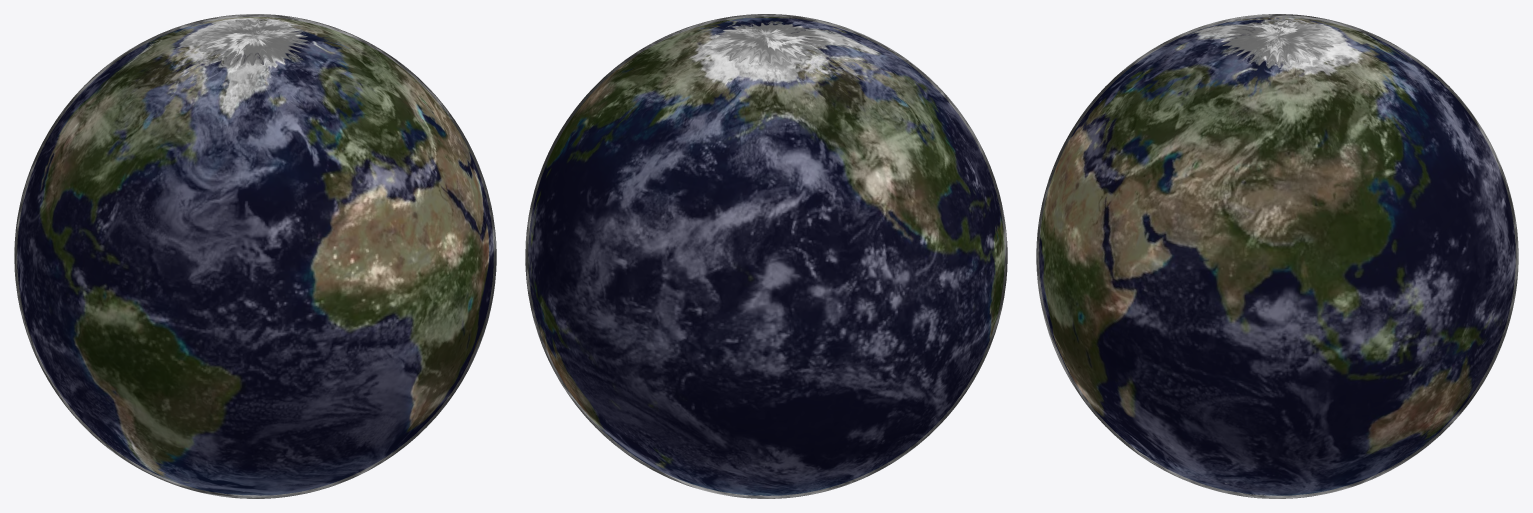
3 renders of one model, left to right at view 1: azimuth 30°, elevation 25°; view 2: azimuth 150°, elevation 25°; view 3: azimuth 270°, elevation 25°, orthographic.
Parts seen in each view (by area): view 1: Clouds, Earth_Earth_0; view 2: Clouds, Earth_Earth_0; view 3: Clouds, Earth_Earth_0.
Part boxes in pixels (x1=…): Clouds: x1=14, y1=14, x2=496, y2=498; Earth_Earth_0: x1=17, y1=17, x2=493, y2=495; Clouds: x1=525, y1=14, x2=1007, y2=498; Earth_Earth_0: x1=528, y1=17, x2=1004, y2=495; Clouds: x1=1036, y1=14, x2=1518, y2=498; Earth_Earth_0: x1=1039, y1=17, x2=1515, y2=495.
Bounding box in the file's own units: 1984 × 2005 × 1984.
Materials: 2 (2 with a texture image).
